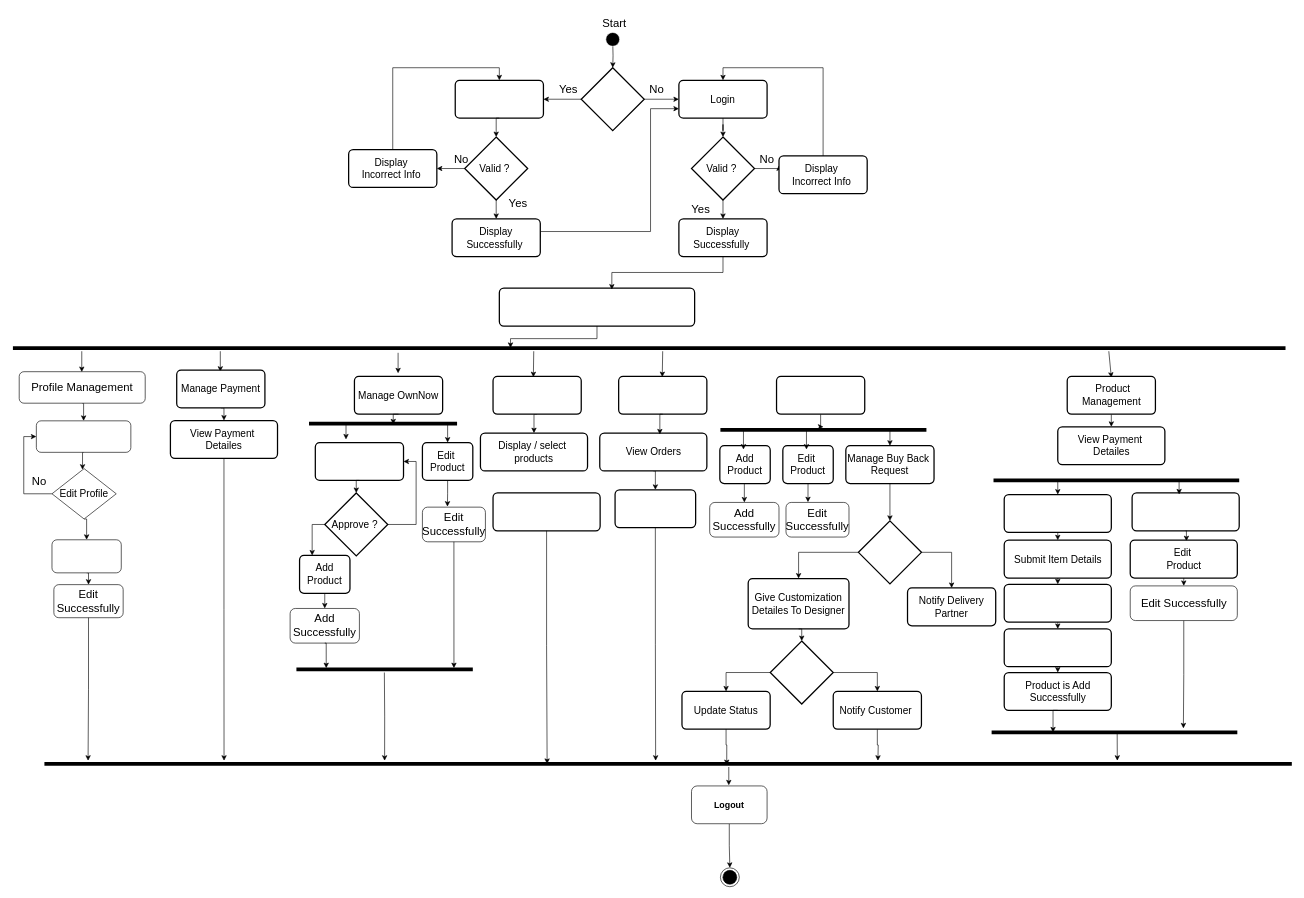
Image size: 1304x898. Some labels were removed from this diagram. The centre of each missing label's shape, as x and y in pixels:
"Accept or Decline ?" belongs at pixel 801 672.
"Buy or Back ?" belongs at pixel 889 552.
"Check Order Status" belongs at pixel 655 508.
"Confirm Submission" belongs at pixel 1057 647.
"Display Seller Dashboard" belongs at pixel 596 306.
"Edit" belongs at pixel 86 556.
"Manage Buy Back" belongs at pixel 820 395.
"Manage Orders" belongs at pixel 662 395.
"Manage Rating & Review" belongs at pixel 537 395.
"New Product" belongs at pixel 1057 513.
"New seller ?" belongs at pixel 612 99.
"Register" belongs at pixel 499 98.
"Request For Adding Product" belongs at pixel 359 461.
"Set Rental Price" belongs at pixel 1057 602.
"view all customer review and rating" belongs at pixel 546 511.
"View Existing Product" belongs at pixel 1185 511.
"View Profile" belongs at pixel 83 436.
